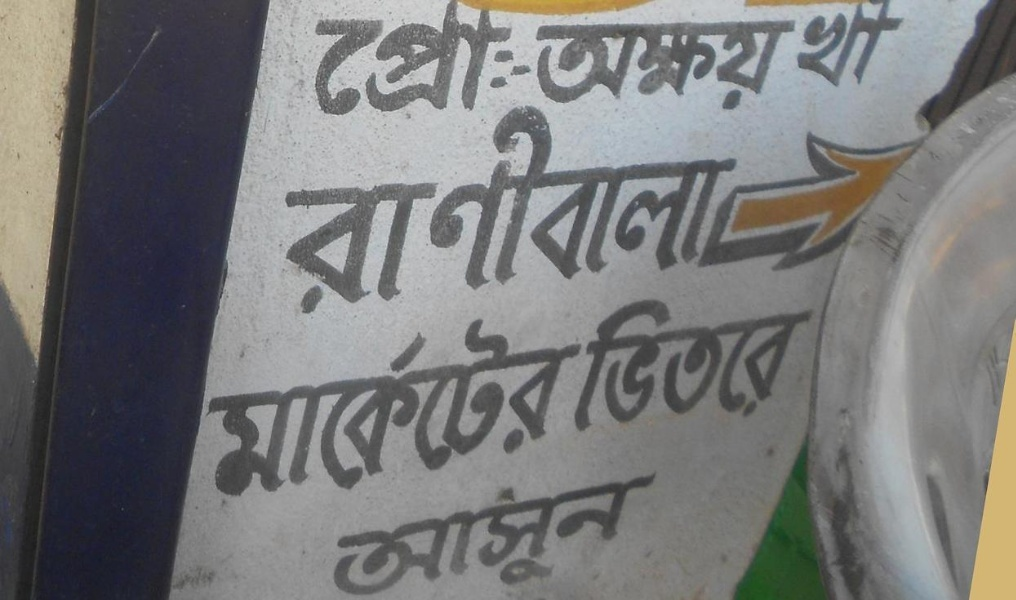text: (289, 89, 304, 328), (305, 89, 320, 328), (321, 89, 336, 328), (337, 89, 352, 328), (353, 89, 368, 328), (369, 89, 384, 328), (385, 89, 400, 328), (401, 89, 416, 328), (417, 89, 432, 328), (433, 89, 448, 328), (449, 89, 464, 328), (465, 89, 480, 328), (481, 89, 496, 328), (497, 89, 512, 328), (513, 89, 528, 328), (529, 89, 544, 328), (545, 89, 560, 328), (561, 89, 576, 328), (577, 89, 592, 328), (593, 89, 608, 328), (609, 89, 624, 328), (625, 89, 640, 328), (641, 89, 656, 328), (657, 89, 672, 328), (673, 89, 688, 328), (689, 89, 704, 328), (705, 89, 720, 328), (721, 89, 736, 328), (737, 89, 752, 328), (209, 290, 224, 517), (225, 290, 240, 517), (241, 290, 256, 517), (257, 290, 272, 517), (273, 290, 288, 517), (289, 290, 304, 517), (305, 290, 320, 517), (321, 290, 336, 517), (337, 290, 352, 517), (353, 290, 368, 517), (369, 290, 384, 517), (385, 290, 400, 517), (401, 290, 416, 517), (417, 290, 432, 517), (433, 290, 448, 517), (449, 290, 464, 517), (465, 290, 480, 517), (481, 290, 496, 517), (497, 290, 512, 517), (513, 290, 528, 517), (529, 290, 544, 517), (545, 290, 560, 517), (561, 290, 576, 517), (577, 290, 592, 517), (753, 89, 765, 328), (593, 294, 608, 436), (609, 294, 624, 436), (625, 294, 640, 436), (641, 294, 656, 436), (657, 294, 672, 436), (673, 294, 688, 436), (689, 294, 704, 436), (705, 294, 720, 436), (721, 294, 736, 436), (737, 294, 752, 436), (753, 294, 768, 436), (769, 294, 784, 436), (785, 294, 800, 436), (801, 294, 816, 436), (321, 1, 336, 138), (337, 1, 352, 138), (353, 1, 368, 138), (369, 1, 384, 138), (385, 1, 400, 138), (401, 1, 416, 138), (417, 1, 432, 138), (433, 1, 448, 138), (449, 1, 464, 138), (465, 1, 480, 138), (481, 1, 496, 138), (497, 1, 512, 138), (513, 1, 528, 138), (337, 464, 352, 600), (353, 464, 368, 600), (369, 464, 384, 600), (385, 464, 400, 600), (401, 464, 416, 600), (417, 464, 432, 600), (433, 464, 448, 600), (449, 464, 464, 600), (465, 464, 480, 600), (481, 464, 496, 600), (497, 464, 512, 600), (513, 464, 528, 600), (529, 464, 544, 600), (545, 464, 560, 600), (561, 464, 576, 600), (577, 464, 592, 600), (593, 464, 608, 600), (609, 464, 624, 600), (625, 464, 640, 600), (641, 464, 656, 600), (529, 1, 541, 138), (545, 13, 560, 120), (561, 13, 576, 120), (577, 13, 592, 120), (593, 13, 608, 120), (609, 13, 624, 120), (625, 13, 640, 120), (641, 13, 656, 120), (657, 13, 672, 120), (673, 13, 688, 120), (689, 13, 704, 120), (705, 13, 720, 120), (721, 13, 736, 120), (737, 13, 752, 120), (753, 13, 768, 120), (769, 13, 784, 120), (785, 13, 800, 120), (657, 464, 668, 600), (817, 1, 832, 93), (833, 1, 848, 93), (849, 1, 864, 93), (865, 1, 880, 93), (881, 1, 896, 93), (897, 1, 912, 93), (535, 13, 544, 120), (313, 1, 320, 138), (807, 1, 816, 93), (913, 1, 920, 93), (817, 294, 821, 436), (286, 89, 288, 328), (589, 294, 592, 436), (207, 290, 208, 517), (593, 290, 594, 517), (801, 13, 803, 120), (335, 464, 336, 600)
